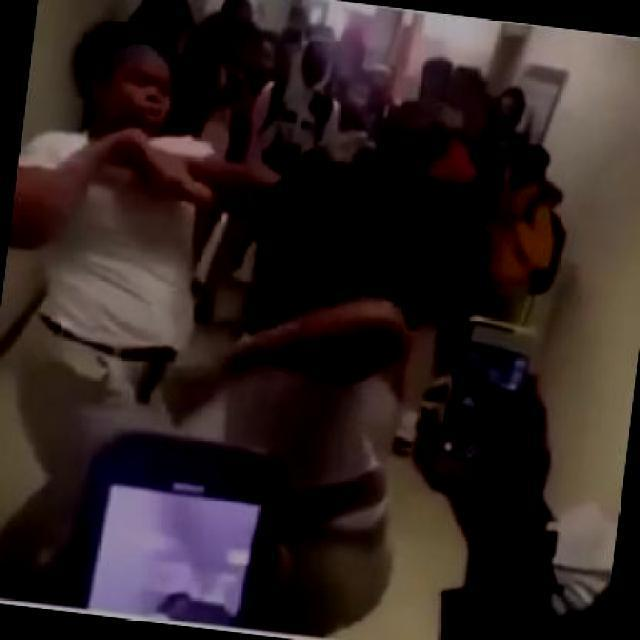fight: (0, 15, 438, 495)
